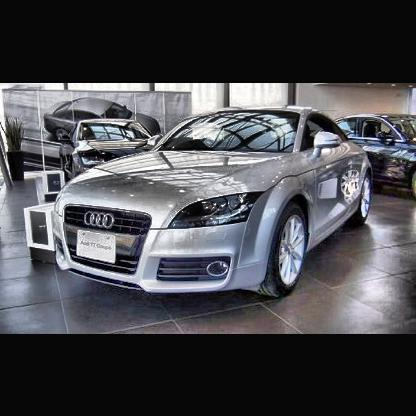Audi TTS Coupe 2012: (55, 106, 372, 298)
